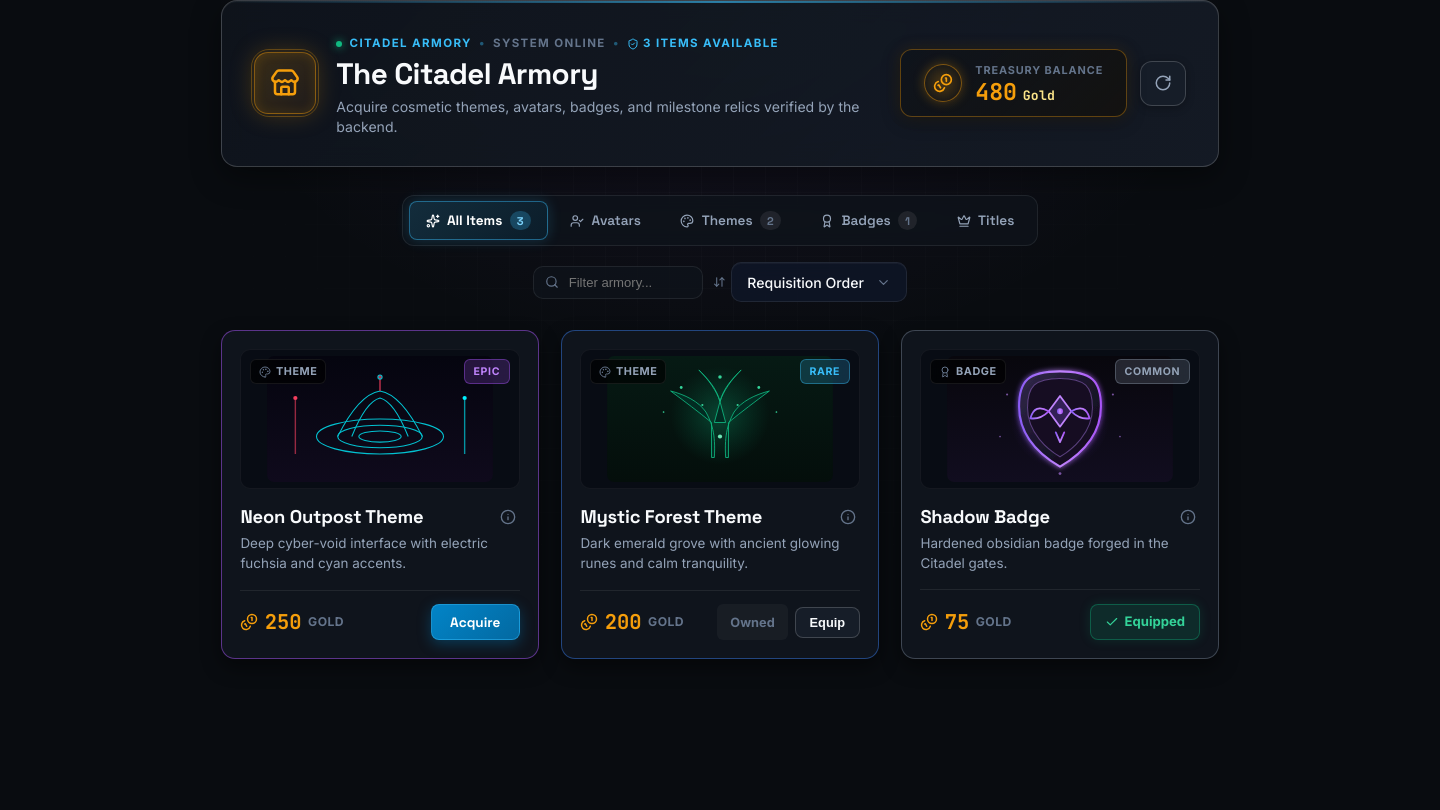
Phase 5 — Shop, Inventory & Rewards System › 8. displays error message in modal when purchase fails with insufficient gold
Click the button with aria-label "Purchase Neon Outpost Theme for 250 Gold". click: (476, 622)
box: [431,604,520,640]
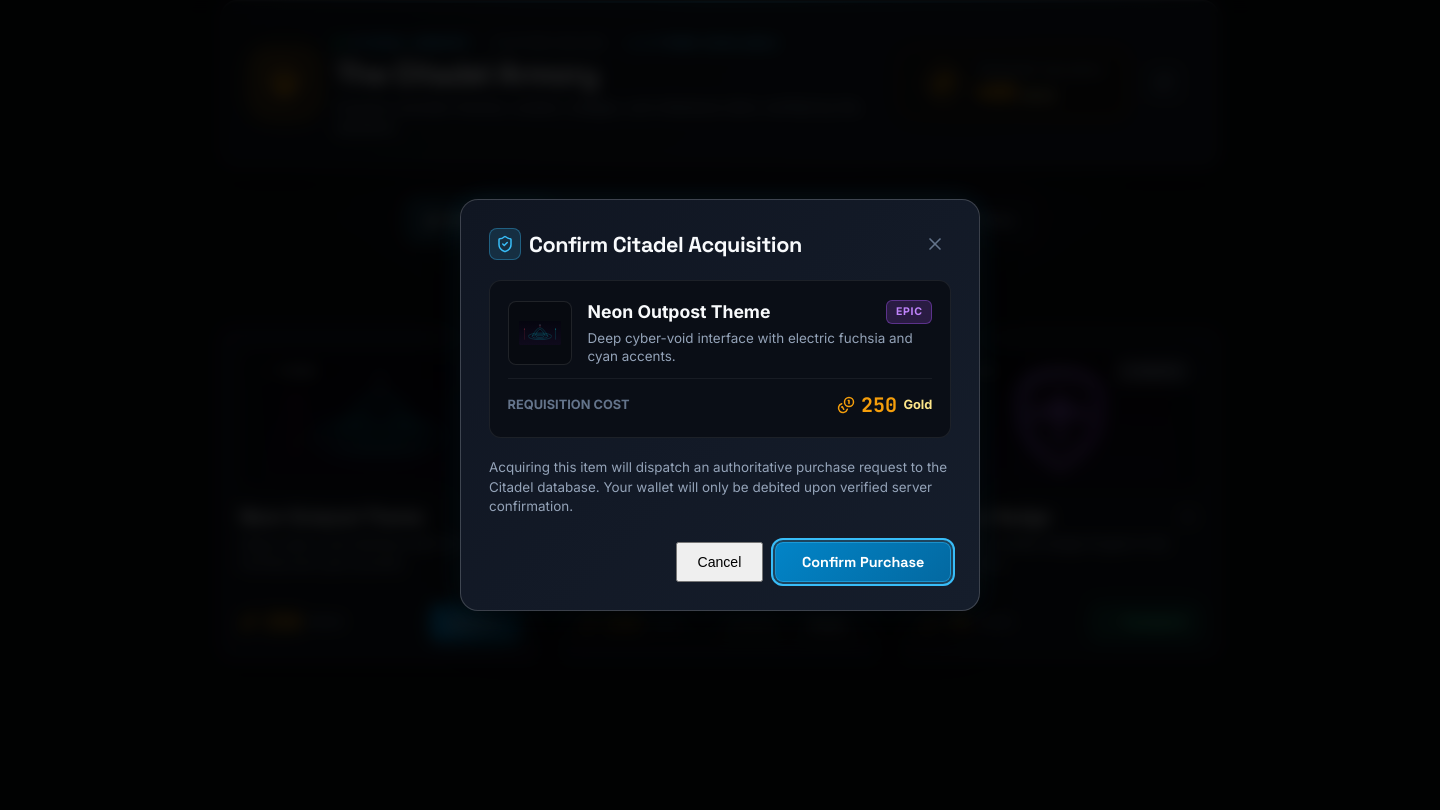
Click the button "Confirm Purchase". click: (863, 562)
box: [775,542,951,582]
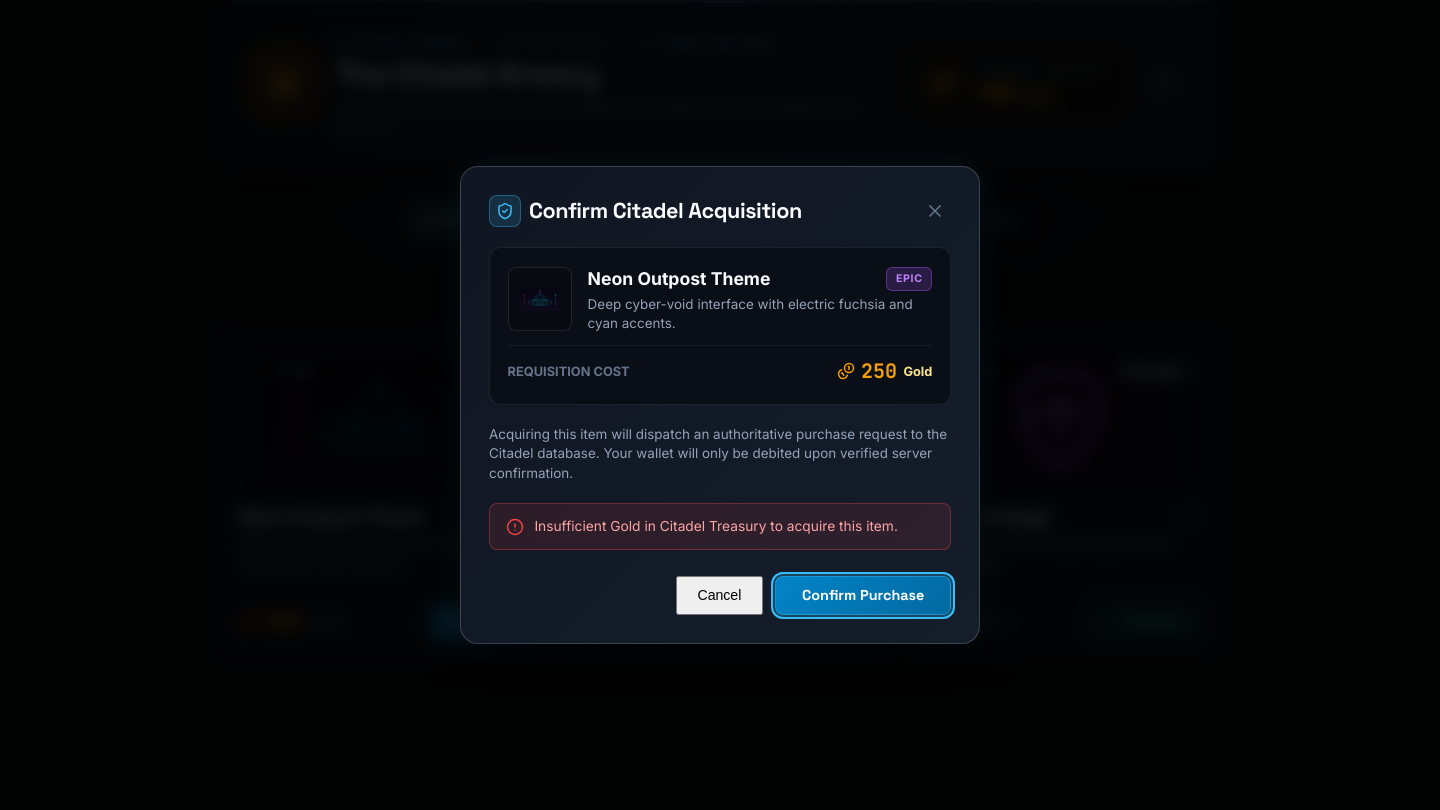
Result: the message "Insufficient Gold in Citadel Treasury to acquire this item." is shown at [489,503,951,550]
Result: the text "Insufficient Gold in Citadel Treasury to acquire this item." is shown at [534,516,898,537]
